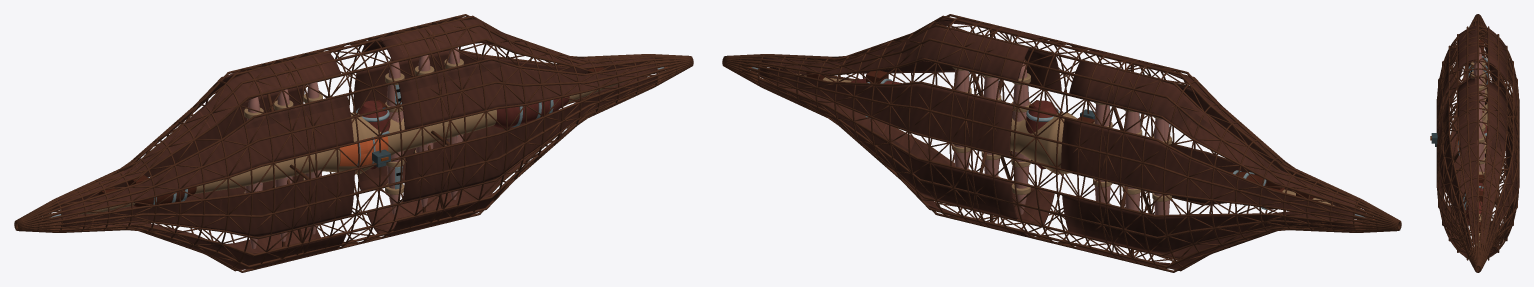
3 views of the same model, side by side, from view 1: azimuth 30°, elevation 25°; view 2: azimuth 150°, elevation 25°; view 3: azimuth 270°, elevation 25° (orthographic). The views are drawn at different scales.
Visible parts, largest first — view 1: AC3C construction longitudinal ribs, AC3C construction diagonal lattice, AC3C construction transverse hoops, AC3C temporary copper shield -1 3, AC3C temporary copper shield 1 3, AC3C temporary copper shield -1 4, AC3C temporary copper shield 1 4, Shipyard axial spine, AC3C temporary copper shield -1 2, AC3C temporary copper shield 1 2, AC3C temporary copper shield -1 5, AC3C temporary copper shield 1 0 (+11 smaller); view 2: AC3C construction longitudinal ribs, AC3C construction diagonal lattice, AC3C construction transverse hoops, AC3C temporary copper shield -1 0, AC3C temporary copper shield 1 0, AC3C temporary copper shield -1 1, AC3C temporary copper shield -1 7, AC3C temporary copper shield 1 1, AC3C temporary copper shield 1 7, AC3C temporary copper shield 1 5, Shipyard axial spine, AC3C temporary copper shield 1 3 (+14 smaller); view 3: AC3C construction longitudinal ribs, AC3C construction transverse hoops, AC3C construction diagonal lattice, AC3C temporary copper shield 1 2, AC3C temporary copper shield 1 1, AC3C temporary copper shield 1 3, AC3C temporary copper shield 1 0, AC3C temporary copper shield -1 2, AC3C temporary copper shield -1 1, AC3C temporary copper shield -1 7, AC3C temporary copper shield -1 5, AC3C temporary copper shield -1 3 (+14 smaller).
Boxes of the visible parts, x1,y1,x2,y2 form: AC3C construction longitudinal ribs: [14, 14, 693, 272]; AC3C construction diagonal lattice: [41, 18, 673, 268]; AC3C construction transverse hoops: [36, 17, 677, 269]; AC3C temporary copper shield -1 3: [62, 95, 353, 214]; AC3C temporary copper shield 1 3: [398, 60, 656, 129]; AC3C temporary copper shield -1 4: [62, 170, 354, 236]; AC3C temporary copper shield 1 4: [402, 77, 656, 202]; Shipyard axial spine: [80, 81, 625, 214]; AC3C temporary copper shield -1 2: [58, 52, 340, 203]; AC3C temporary copper shield 1 2: [380, 18, 652, 67]; AC3C temporary copper shield -1 5: [61, 225, 346, 269]; AC3C temporary copper shield 1 0: [353, 50, 645, 112]; AC3C construction longitudinal ribs: [722, 14, 1401, 272]; AC3C construction diagonal lattice: [742, 18, 1374, 268]; AC3C construction transverse hoops: [738, 17, 1379, 269]; AC3C temporary copper shield -1 0: [1061, 119, 1353, 219]; AC3C temporary copper shield 1 0: [759, 68, 1013, 155]; AC3C temporary copper shield -1 1: [1069, 61, 1356, 206]; AC3C temporary copper shield -1 7: [1062, 195, 1353, 253]; AC3C temporary copper shield 1 1: [761, 27, 1028, 80]; AC3C temporary copper shield 1 7: [759, 81, 1017, 219]; AC3C temporary copper shield 1 5: [769, 80, 1054, 224]; Shipyard axial spine: [796, 73, 1334, 205]; AC3C temporary copper shield 1 3: [861, 49, 1061, 93]; AC3C construction longitudinal ribs: [1436, 14, 1519, 272]; AC3C construction transverse hoops: [1437, 20, 1519, 259]; AC3C construction diagonal lattice: [1438, 18, 1518, 267]; AC3C temporary copper shield 1 2: [1458, 78, 1477, 242]; AC3C temporary copper shield 1 1: [1481, 81, 1506, 244]; AC3C temporary copper shield 1 3: [1438, 101, 1470, 249]; AC3C temporary copper shield 1 0: [1487, 118, 1518, 252]; AC3C temporary copper shield -1 2: [1458, 21, 1477, 68]; AC3C temporary copper shield -1 1: [1481, 21, 1506, 80]; AC3C temporary copper shield -1 7: [1484, 41, 1514, 176]; AC3C temporary copper shield -1 5: [1451, 68, 1466, 200]; AC3C temporary copper shield -1 3: [1438, 47, 1456, 112].
Bounding box in the file's own units: 9.11 × 2.55 × 1.36.
14 materials, 11 textured.
